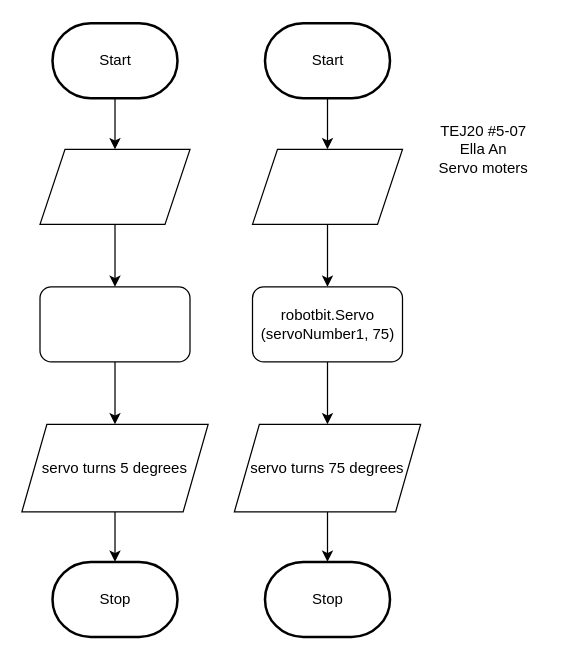
Image size: 568x659. Some labels were removed from this diagram. Here are the shapes that lost their labels. From the top down, the centre of each, then its label:
At [114,186]: "pressed button a".
At [326,186]: "pressed button b".
At [114,324]: "robotbit.Servo (servoNumber1, 5)".
